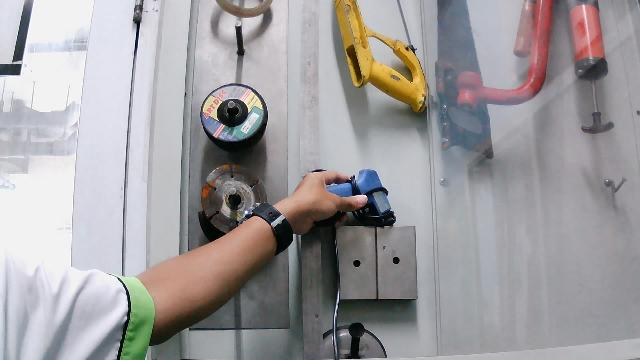solder_electrical: (284, 161, 403, 233)
